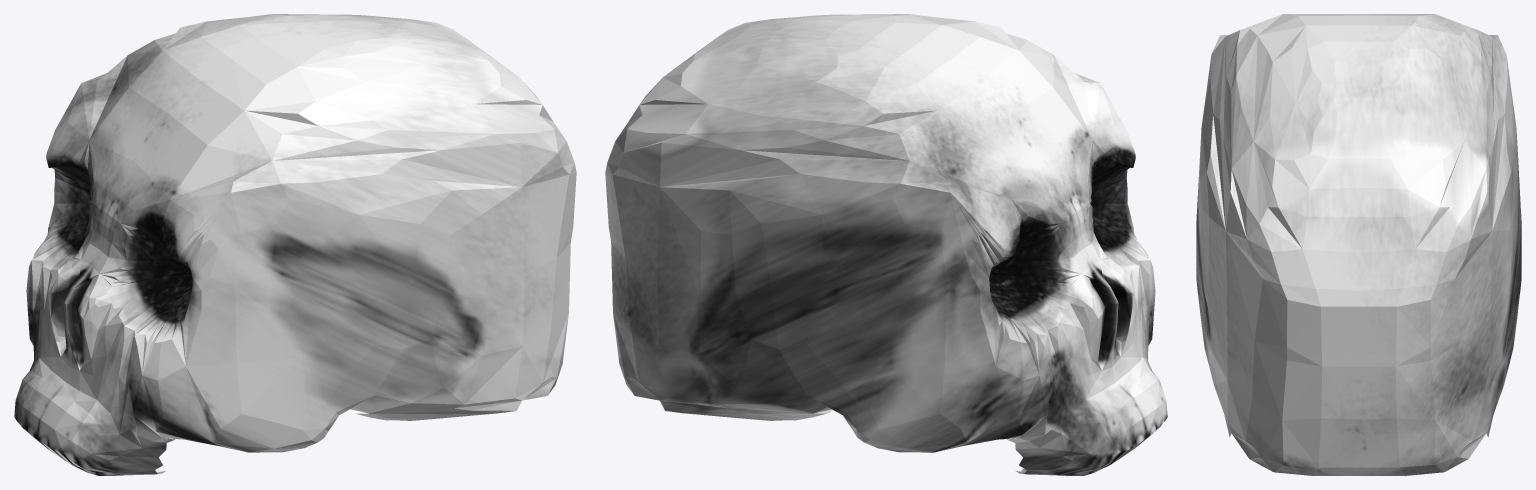
Rendered from 人頭骨.dae.
The picture shows the model from 3 angles, left to right: view 1: azimuth 30°, elevation 25°; view 2: azimuth 150°, elevation 25°; view 3: azimuth 270°, elevation 25°; orthographic projection. The views are drawn at different scales.
Parts seen in each view (by area): view 1: Component_1; view 2: Component_1; view 3: Component_1.
Part boxes in pixels (x1=…): Component_1: x1=14, y1=14, x2=576, y2=475; Component_1: x1=605, y1=14, x2=1167, y2=475; Component_1: x1=1196, y1=14, x2=1521, y2=475.
Size of the model in its own units: 13.22 by 7.89 by 9.23.
Materials: 1 (1 with a texture image).
